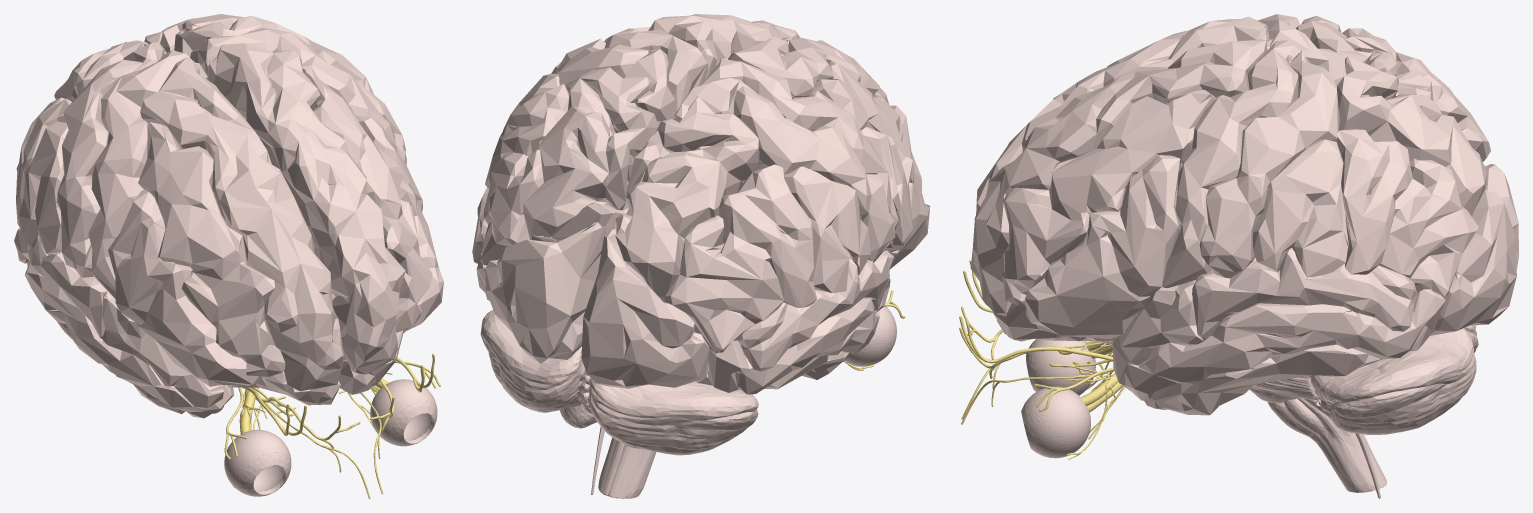
Rendered from nerves.glb.
3 renders of one model, left to right at view 1: azimuth 30°, elevation 25°; view 2: azimuth 150°, elevation 25°; view 3: azimuth 270°, elevation 25°, orthographic. The views are drawn at different scales.
Visible parts, largest first — view 1: brain, nerve; view 2: brain; view 3: brain, nerve.
Boxes of the visible parts, x1=… form: brain: x1=14, y1=14, x2=443, y2=496; nerve: x1=224, y1=353, x2=440, y2=498; brain: x1=472, y1=14, x2=930, y2=498; brain: x1=970, y1=14, x2=1518, y2=498; nerve: x1=959, y1=260, x2=1125, y2=459.
Size of the model in its own units: 145 by 165 by 192.
